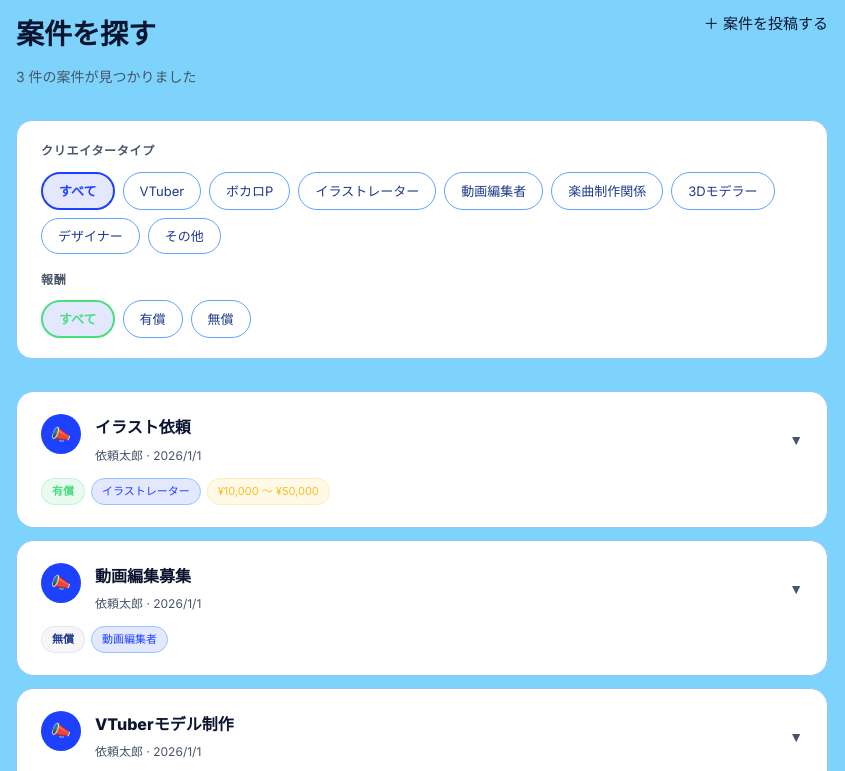
Test case: JobListingsClient › [happy] クリエイタータイプフィルターで絞り込まれる
Note: タイプフィルターのボタンを取得（「すべて」が2つあるため name 指定）
Click the button "動画編集者". click: (494, 191)
box: [444,172,543,210]
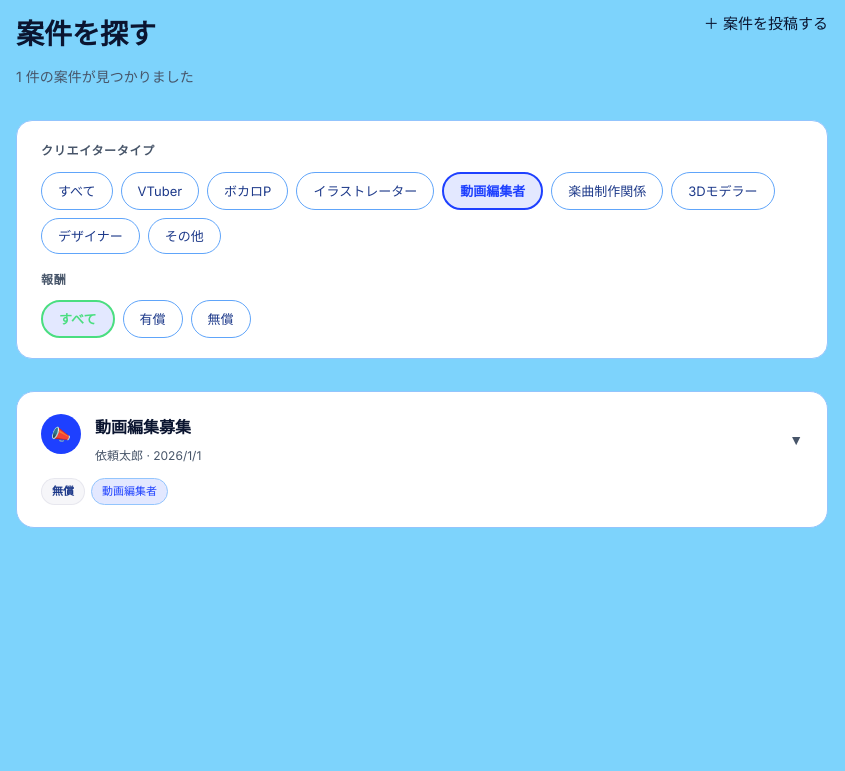
expect the text "動画編集募集" is shown: met, box [95,414,191,442]
expect the text "イラスト依頼" is gone: met
expect the text "1 件の案件が見つかりました" is shown: met, box [16,65,194,88]
